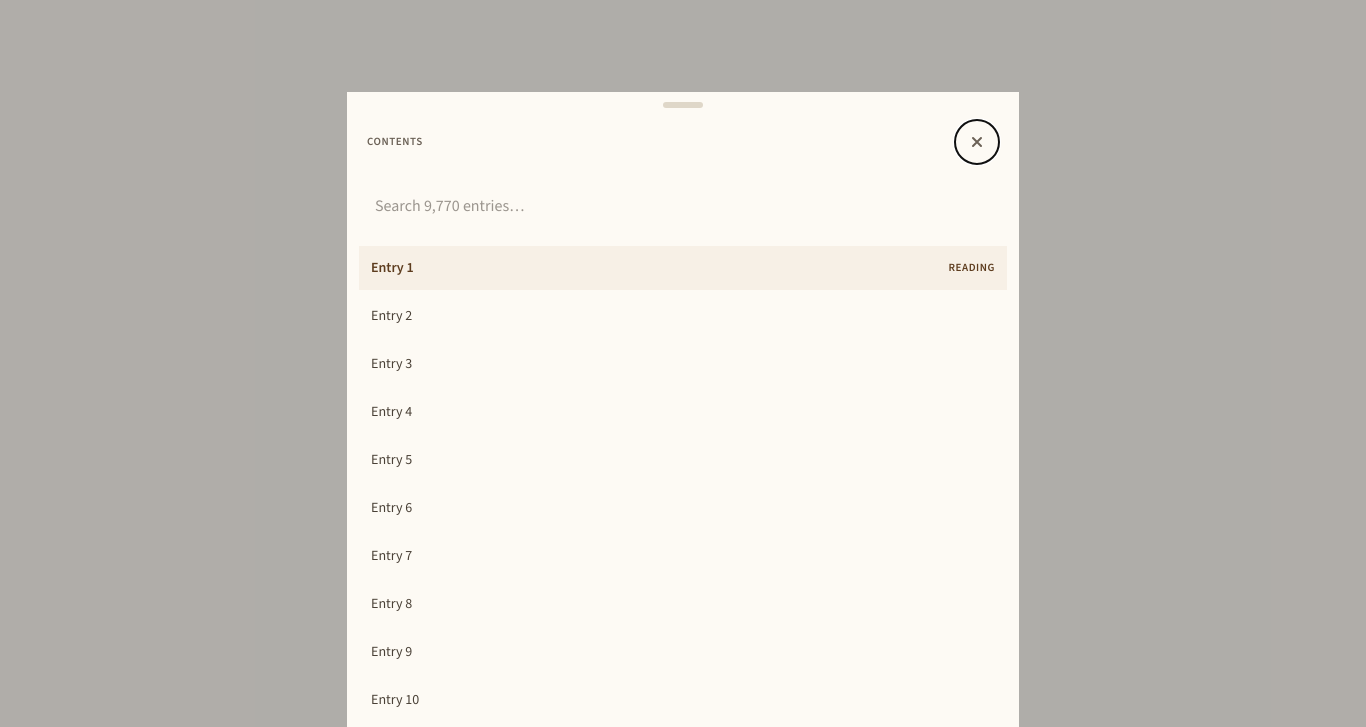
Test: WorkToc — bounded when the UNIT list is large › search narrows what is mounted, and says how many matched
Type "Entry 4242" into the search field named "Search the contents" at (683, 206), box left=363, top=186, right=1003, bottom=226
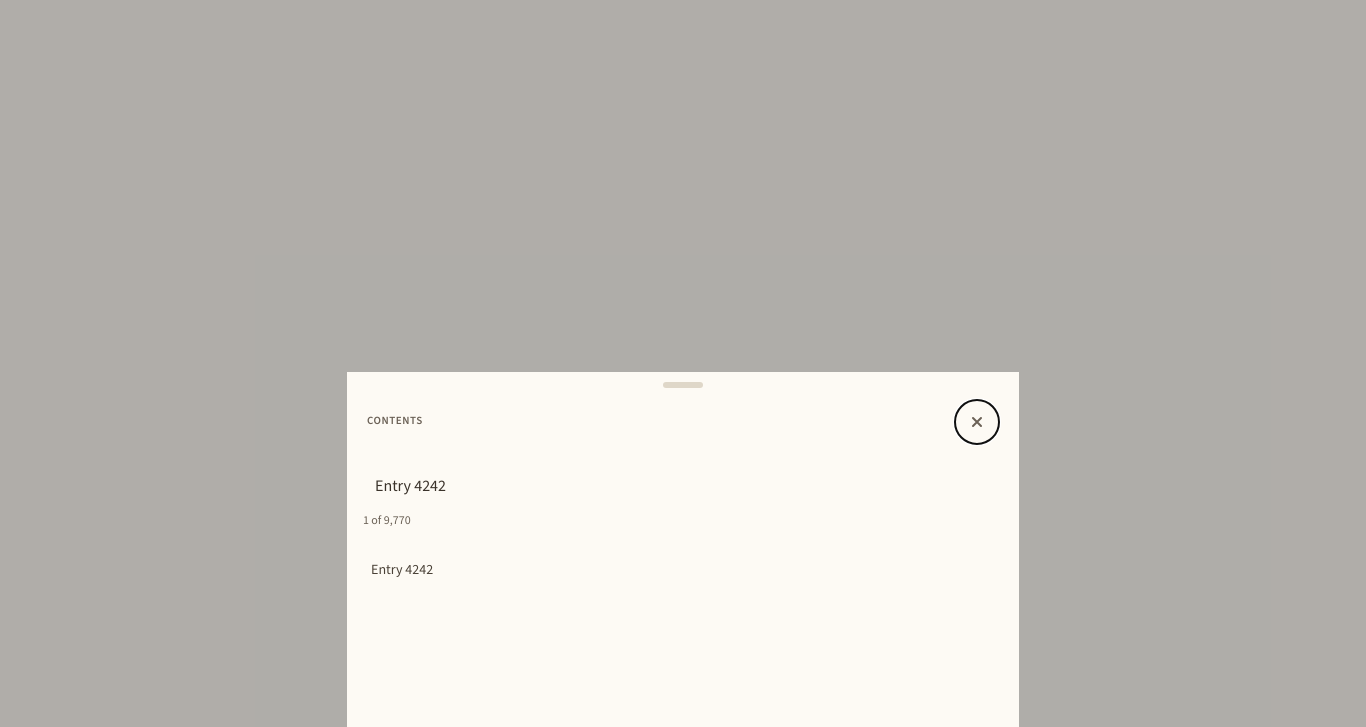
Result: the text "1 of 9,770" is shown at left=363, top=512, right=411, bottom=528
